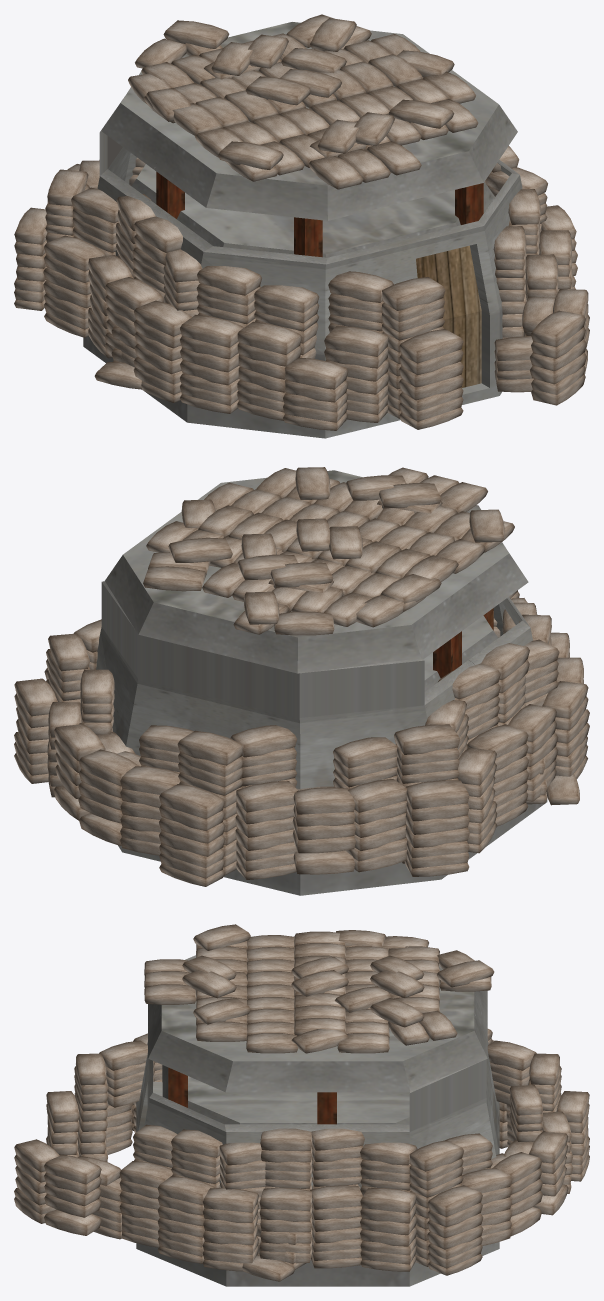
The model's file is tower_bunker.dae.
3 views of the same model, one above another, from view 1: azimuth 30°, elevation 25°; view 2: azimuth 150°, elevation 25°; view 3: azimuth 270°, elevation 25° (orthographic). The views are drawn at different scales.
Visible parts, largest first — view 1: tower; view 2: tower; view 3: tower.
Part boxes in pixels (bbox=[...]): tower: bbox=[14, 14, 589, 438]; tower: bbox=[14, 467, 589, 895]; tower: bbox=[14, 924, 589, 1286].
Size of the model in its own units: 19.24 by 22.89 by 10.22.
